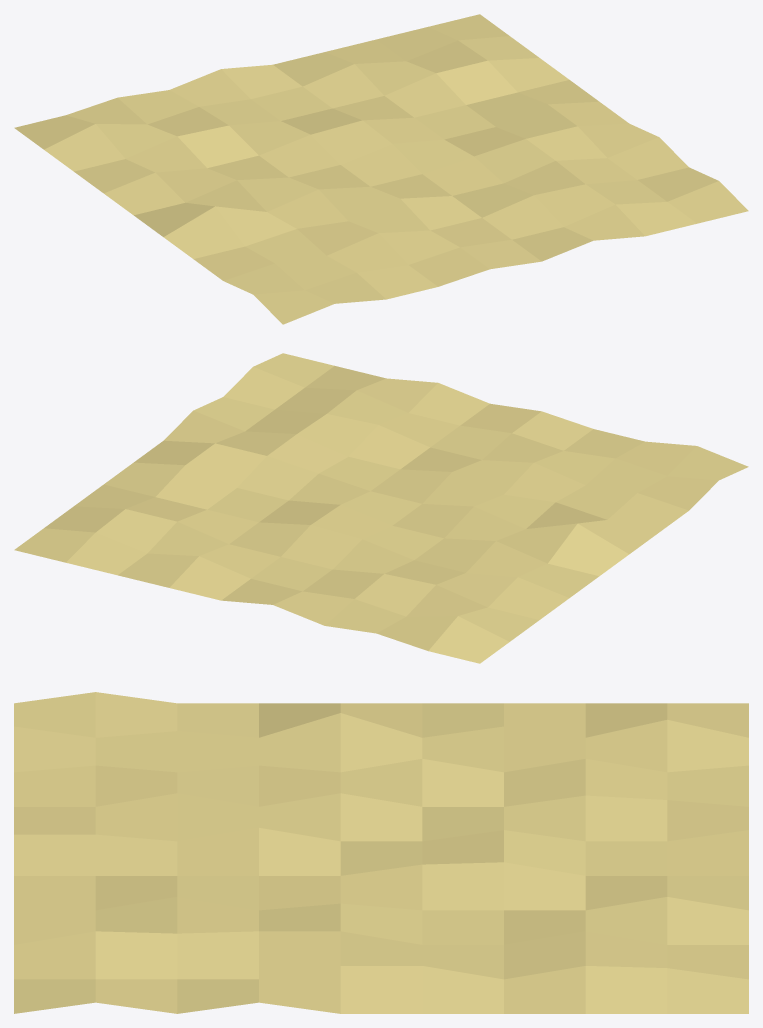
Rendered from rough_plane_sand.fbx.
The picture shows the model from 3 angles, top to bottom: view 1: azimuth 30°, elevation 25°; view 2: azimuth 150°, elevation 25°; view 3: azimuth 270°, elevation 25°; orthographic projection. The views are drawn at different scales.
Parts seen in each view (by area): view 1: Grid; view 2: Grid; view 3: Grid.
Boxes of the visible parts, bbox=[...] form: Grid: bbox=[14, 14, 748, 324]; Grid: bbox=[14, 353, 748, 663]; Grid: bbox=[14, 692, 748, 1013].
Bounding box in the file's own units: 1600 × 59.85 × 1600.
